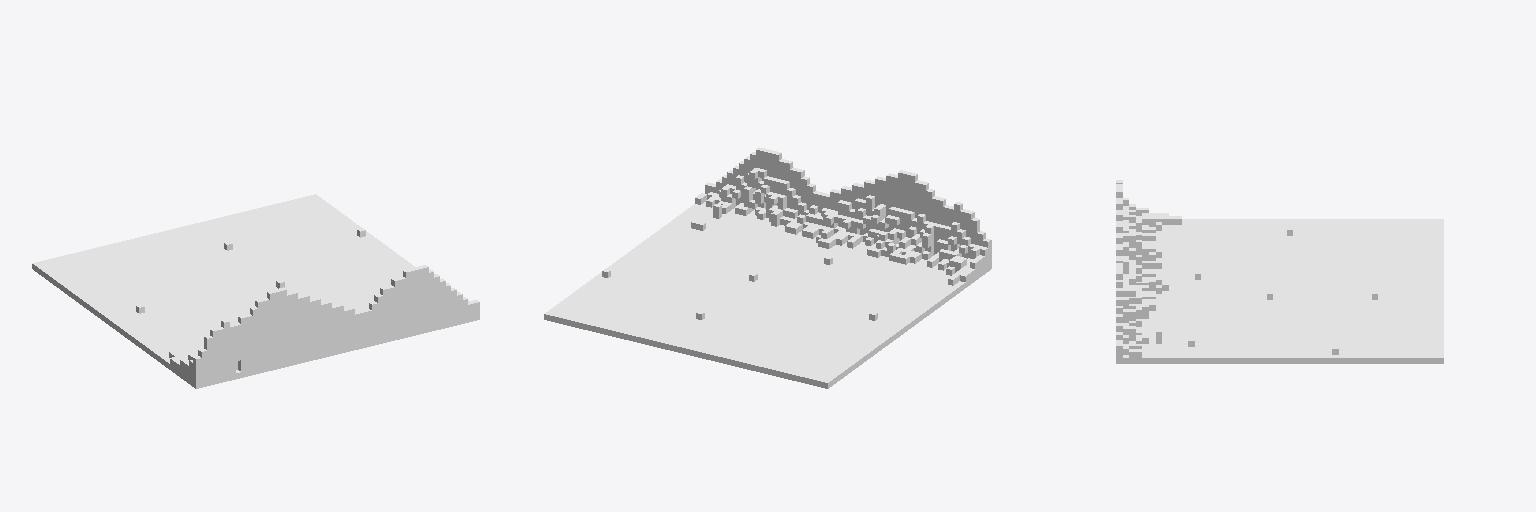
The model's file is normale.obj.
3 renders of one model, left to right at view 1: azimuth 30°, elevation 25°; view 2: azimuth 150°, elevation 25°; view 3: azimuth 270°, elevation 25°, orthographic.
Visible parts, largest first — view 1: object 1; view 2: object 1; view 3: object 1.
Part boxes in pixels (x1,y1,x2,y2): object 1: (32, 194, 479, 388); object 1: (544, 147, 991, 388); object 1: (1116, 180, 1443, 363).
Size of the model in its own units: 5 by 1.3 by 5.